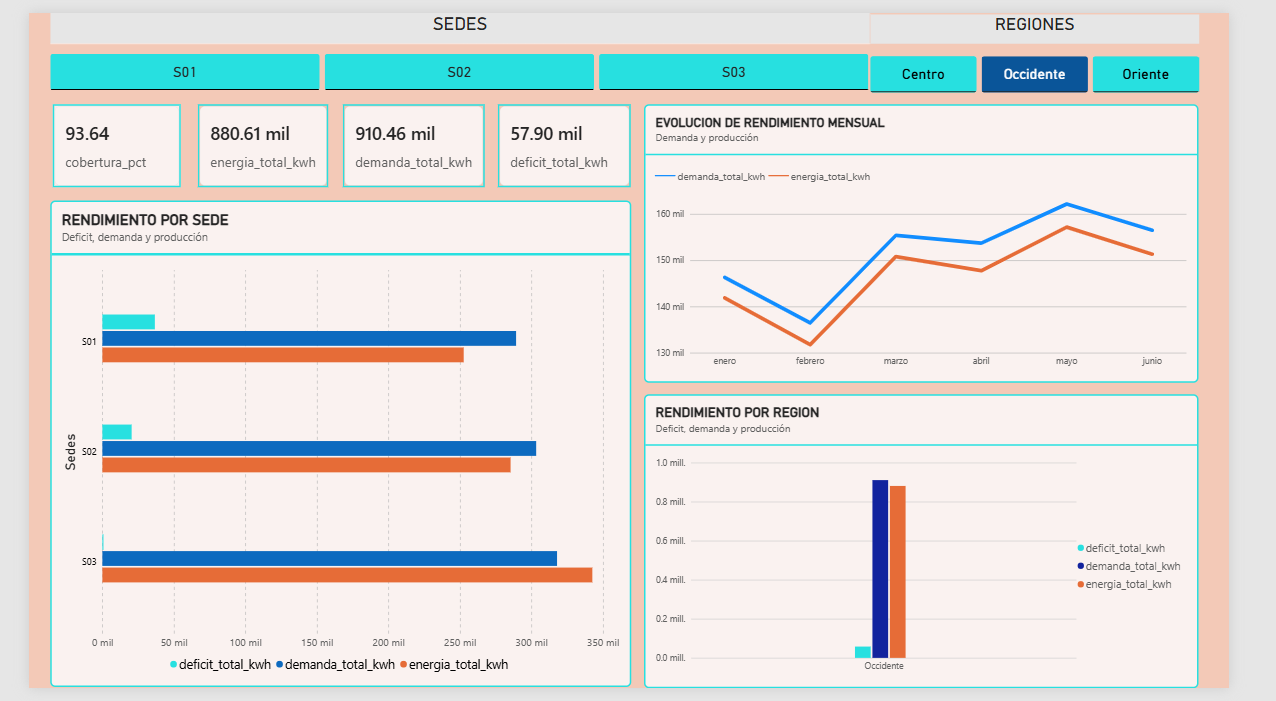

The page's visual inventory and layout, read from the dashboard file:
{"tool":"powerbi","page":{"name":"Página 1","canvas":[1920,1080],"ordinal":0},"visuals":[{"type":"cardVisual","fields":{"Data":["FactOperaciones.cobertura_pct"]},"box":[37.5,146.9,205.8,133.1],"z":0},{"type":"cardVisual","fields":{"Data":["FactOperaciones.deficit_total_kwh"]},"box":[749.6,146.9,213.8,133.1],"z":1000},{"type":"cardVisual","fields":{"Data":["FactOperaciones.demanda_total_kwh"]},"box":[501.5,146.9,227.9,133.1],"z":2000},{"type":"cardVisual","fields":{"Data":["FactOperaciones.energia_total_kwh"]},"box":[269.5,146.9,209.8,133.1],"z":3000},{"type":"advancedSlicerVisual","title":"REGIONES","fields":{"Values":["DimSede.region"]},"box":[1346.4,1.8,526.5,145.2],"z":4000},{"type":"advancedSlicerVisual","title":"SEDES","fields":{"Values":["DimSede.sede_id"]},"box":[34.3,0,1311.2,123.1],"z":5000},{"type":"lineChart","title":"EVOLUCION DE RENDIMIENTO MENSUAL","fields":{"Category":["DimCalendario.Date.Variación.Jerarquía de fechas.Mes"],"Y":["FactOperaciones.demanda_total_kwh","FactOperaciones.energia_total_kwh"]},"box":[984.4,145.2,887.6,445.8],"z":6000},{"type":"clusteredColumnChart","title":"RENDIMIENTO POR REGION","fields":{"Category":["DimSede.region"],"Y":["FactOperaciones.deficit_total_kwh","FactOperaciones.demanda_total_kwh","FactOperaciones.energia_total_kwh"]},"box":[984.4,609.2,887.6,470],"z":7000},{"type":"clusteredBarChart","title":"RENDIMIENTO POR SEDE","fields":{"Category":["DimSede.sede_id"],"Y":["FactOperaciones.deficit_total_kwh","FactOperaciones.demanda_total_kwh","FactOperaciones.energia_total_kwh"]},"box":[34.3,300.6,929.9,778.7],"z":8000}]}

Visuals, with their boxes in screenshot pixels (x1, y1, x2, y2), scaled from the page's 1920x1080 canvas onto the 1276x701 screenshot:
cardVisual - FactOperaciones.cobertura_pct: l=25, t=95, r=162, b=182
cardVisual - FactOperaciones.deficit_total_kwh: l=498, t=95, r=640, b=182
cardVisual - FactOperaciones.demanda_total_kwh: l=333, t=95, r=485, b=182
cardVisual - FactOperaciones.energia_total_kwh: l=179, t=95, r=319, b=182
"REGIONES" advancedSlicerVisual: l=895, t=1, r=1245, b=95
"SEDES" advancedSlicerVisual: l=23, t=0, r=894, b=80
"EVOLUCION DE RENDIMIENTO MENSUAL" lineChart: l=654, t=94, r=1244, b=384
"RENDIMIENTO POR REGION" clusteredColumnChart: l=654, t=395, r=1244, b=700
"RENDIMIENTO POR SEDE" clusteredBarChart: l=23, t=195, r=641, b=700
